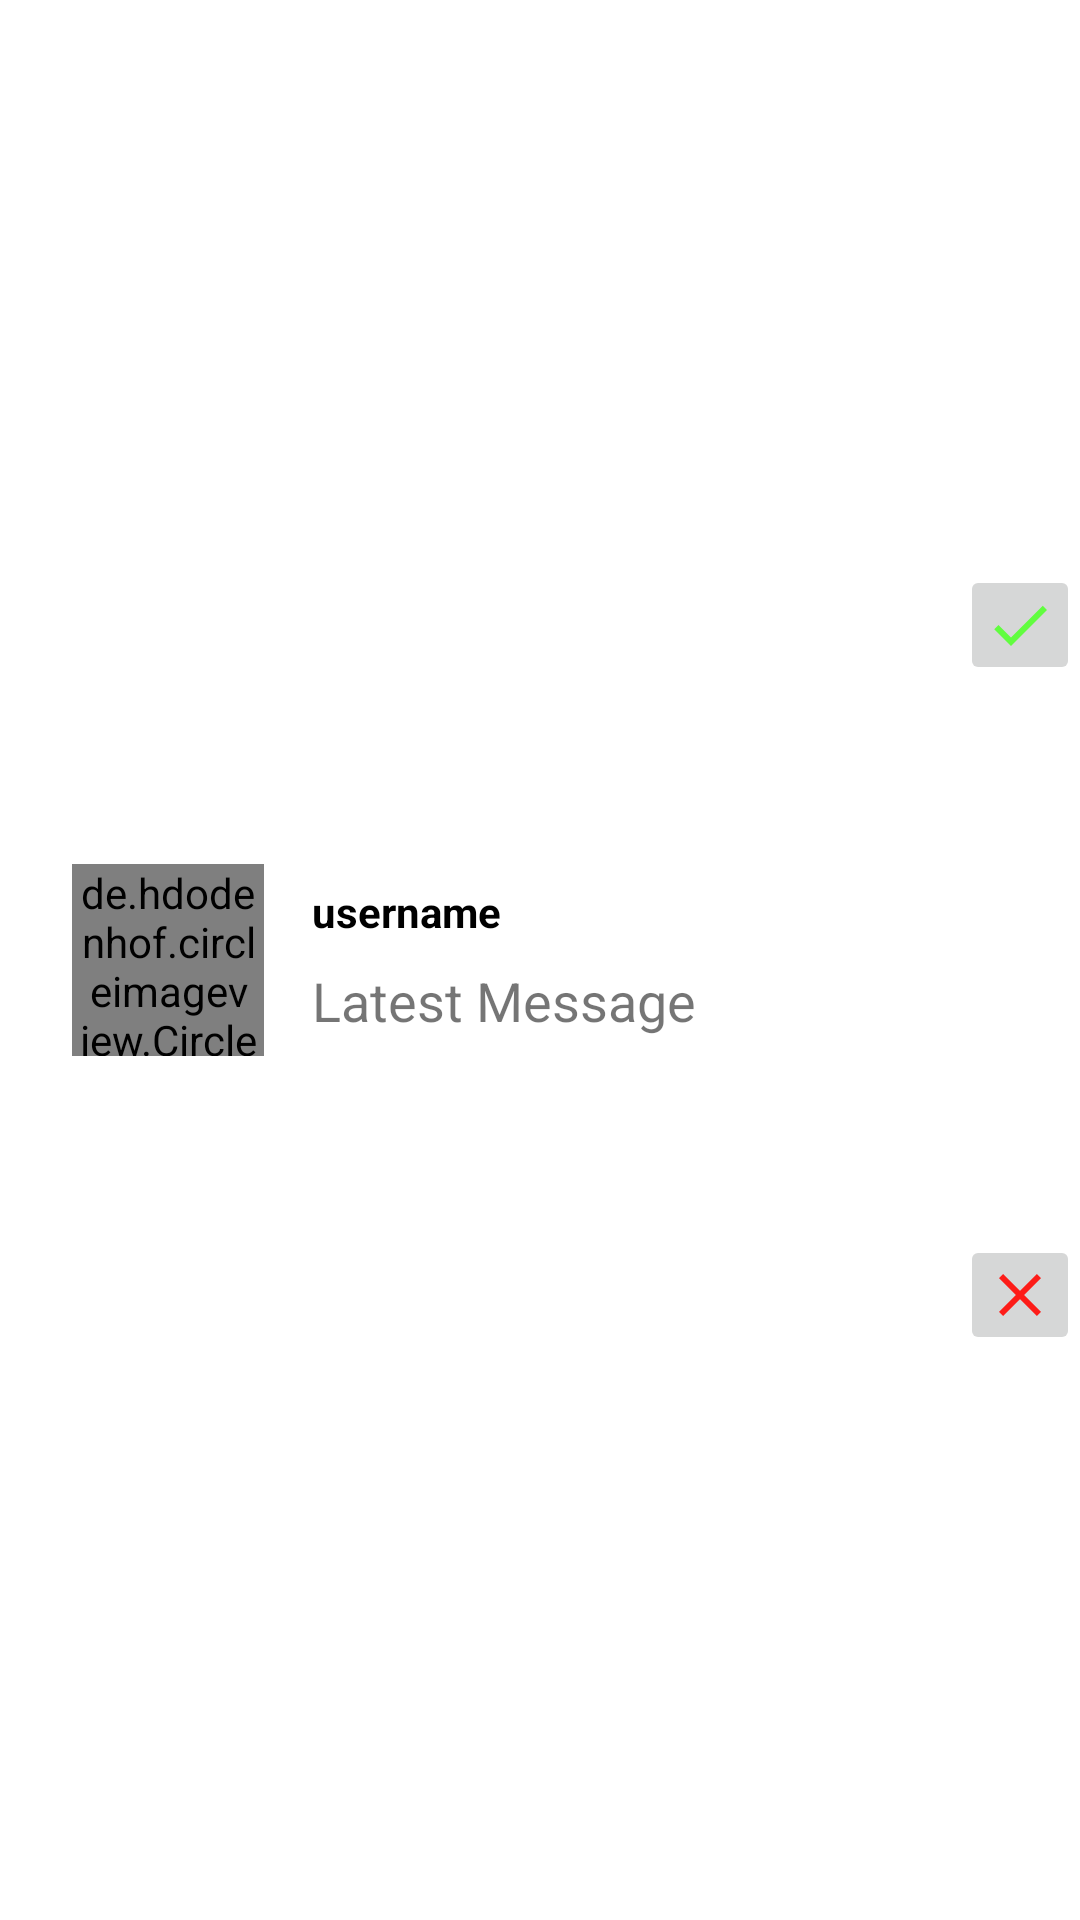

Point at icon controls on the screen. Image size 1080px x 1920px, points as (x,y).
check: (1020,625)
clear: (1020,1295)
